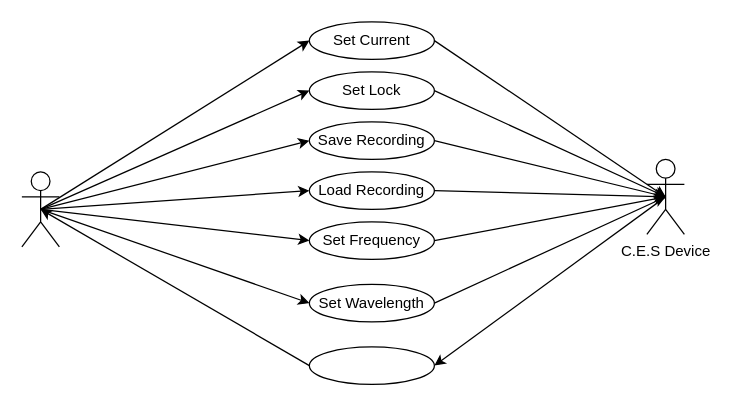
This 731x406 diagram has some shape labels left out. The shapes that lost their labels are listed below. From the top down, each one's box as (x1, y1, x2, y2) in pixels, then its label:
(21, 171, 59, 247): User
(308, 346, 434, 384): Handle low battery
